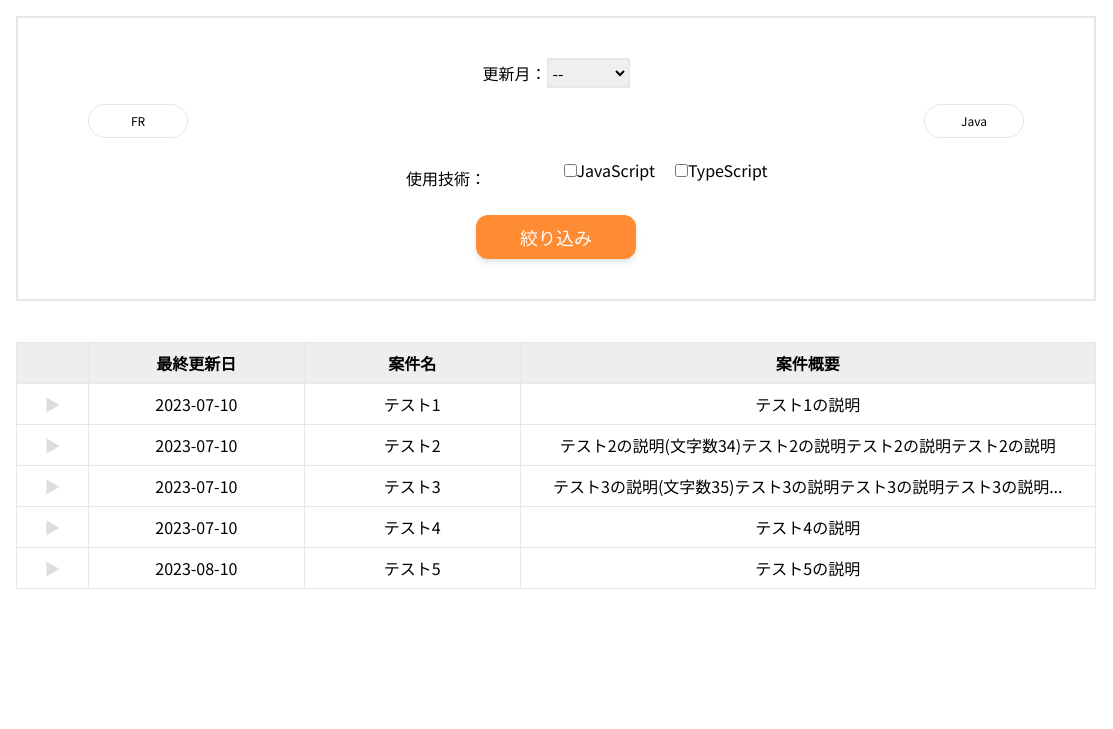
it: 管理者/履歴一覧画面のテスト › リストテスト › オープンボタンを押すとクローズボタンとユーザーリストが表示される
Click the button with test id "open_1" at (52, 404), box [44,392,60,416]
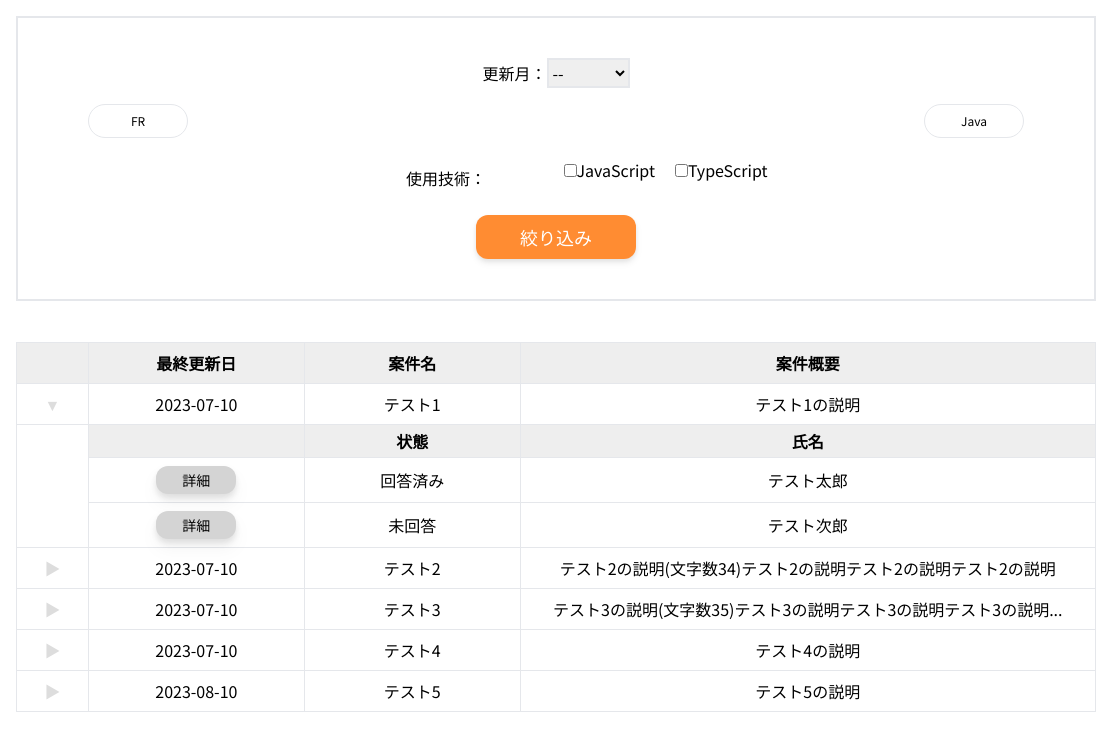
Now the button with test id "close_1" is shown, box [44,392,60,416]
Now the column heading "氏名" is shown, box [520,424,1096,457]
Now the button with test id "open_1" is gone
